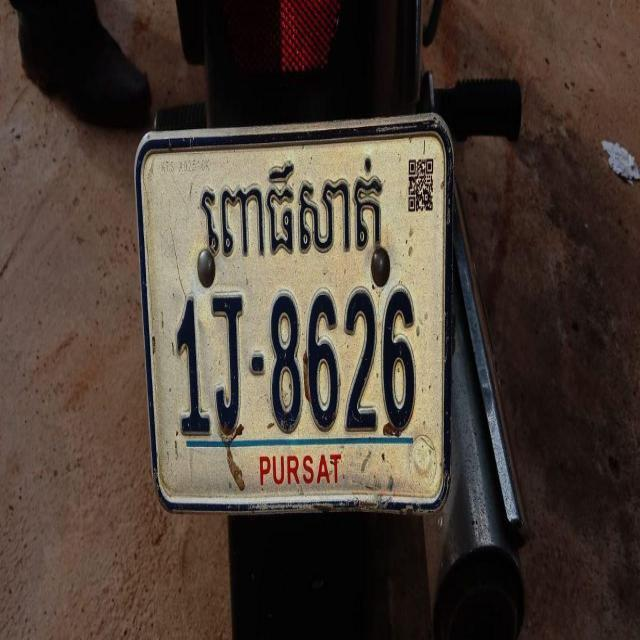Pursat: (201, 159, 383, 270)
